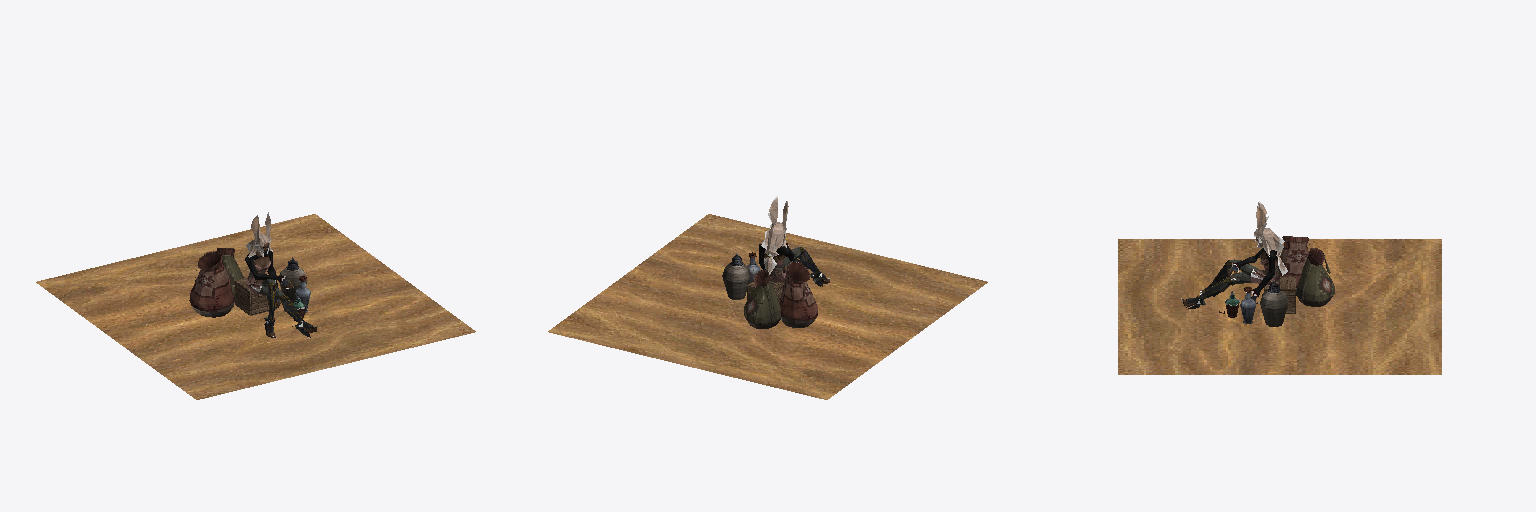
The picture shows the model from 3 angles: view 1: azimuth 30°, elevation 25°; view 2: azimuth 150°, elevation 25°; view 3: azimuth 270°, elevation 25°; orthographic projection.
Parts seen in each view (by area): view 1: Grid_Grid.001, n1069_005.002, b0016_004.000, b0016_005.000, b0016_000.000, b0016_003.000; view 2: Grid_Grid.001, n1069_005.002, b0016_004.000, b0016_003.000, b0016_000.000; view 3: Grid_Grid.001, n1069_005.002, b0016_003.000, b0016_004.000, b0016_000.000.
Part boxes in pixels (x1,y1,x2,y2): Grid_Grid.001: (36, 214, 475, 399); n1069_005.002: (245, 212, 317, 337); b0016_004.000: (189, 251, 234, 317); b0016_005.000: (235, 277, 276, 315); b0016_000.000: (279, 257, 306, 302); b0016_003.000: (217, 248, 244, 298); Grid_Grid.001: (548, 214, 987, 399); n1069_005.002: (759, 196, 830, 286); b0016_004.000: (779, 261, 817, 327); b0016_003.000: (744, 270, 780, 328); b0016_000.000: (722, 253, 750, 299); Grid_Grid.001: (1118, 239, 1441, 374); n1069_005.002: (1181, 201, 1287, 308); b0016_003.000: (1296, 248, 1334, 306); b0016_004.000: (1278, 236, 1309, 291); b0016_000.000: (1260, 280, 1287, 326).
Size of the model in its own units: 3.98 by 1.42 by 3.98.
Materials: 6 (1 with a texture image).